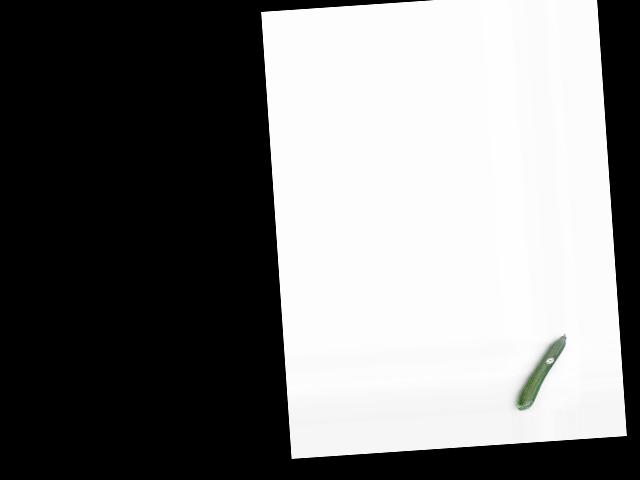cucumber: (512, 333, 571, 410)
